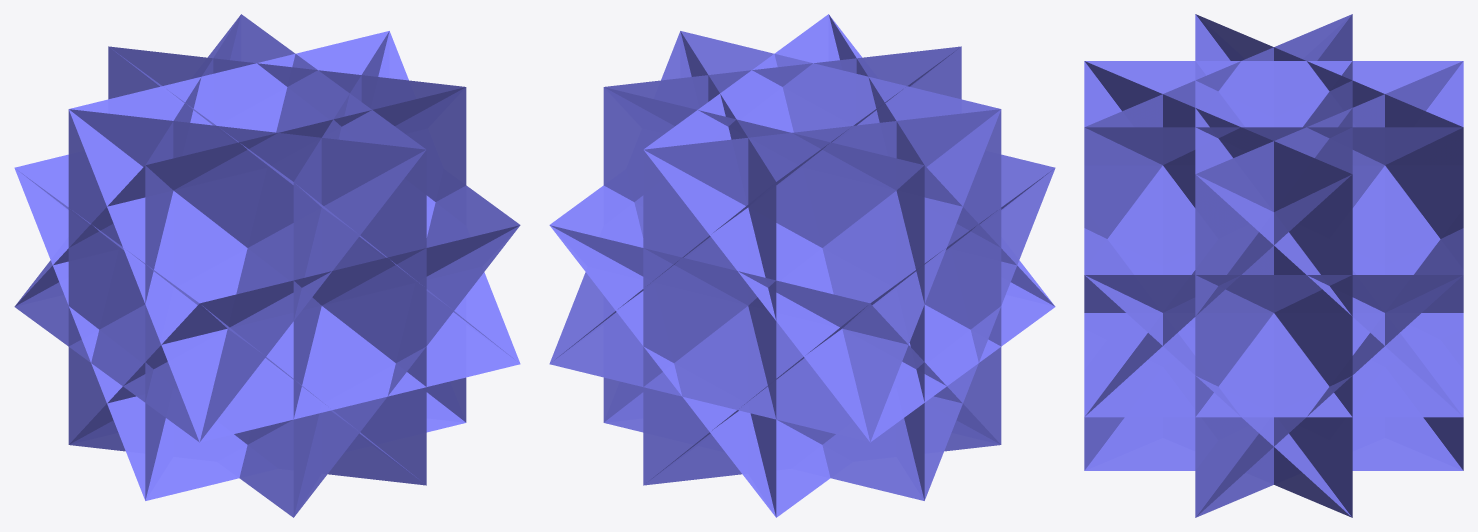
The model's file is GreatRhombihexahedronA.obj.
3 renders of one model, left to right at view 1: azimuth 30°, elevation 25°; view 2: azimuth 150°, elevation 25°; view 3: azimuth 270°, elevation 25°, orthographic. The views are drawn at different scales.
Size of the model in its own units: 1 by 1 by 1.
